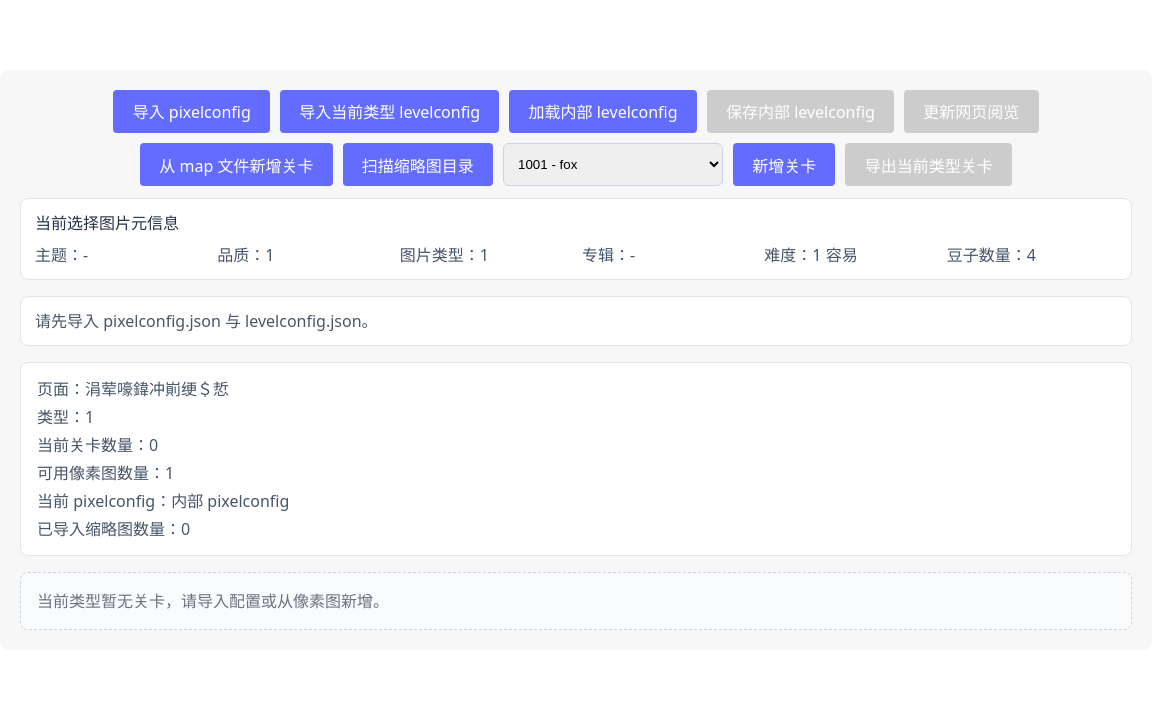
it: LevelConfigPage › closes the reserved preview tab and reports generation failures
Click the button "加载内部 levelconfig" at (603, 111), box left=509, top=90, right=697, bottom=133
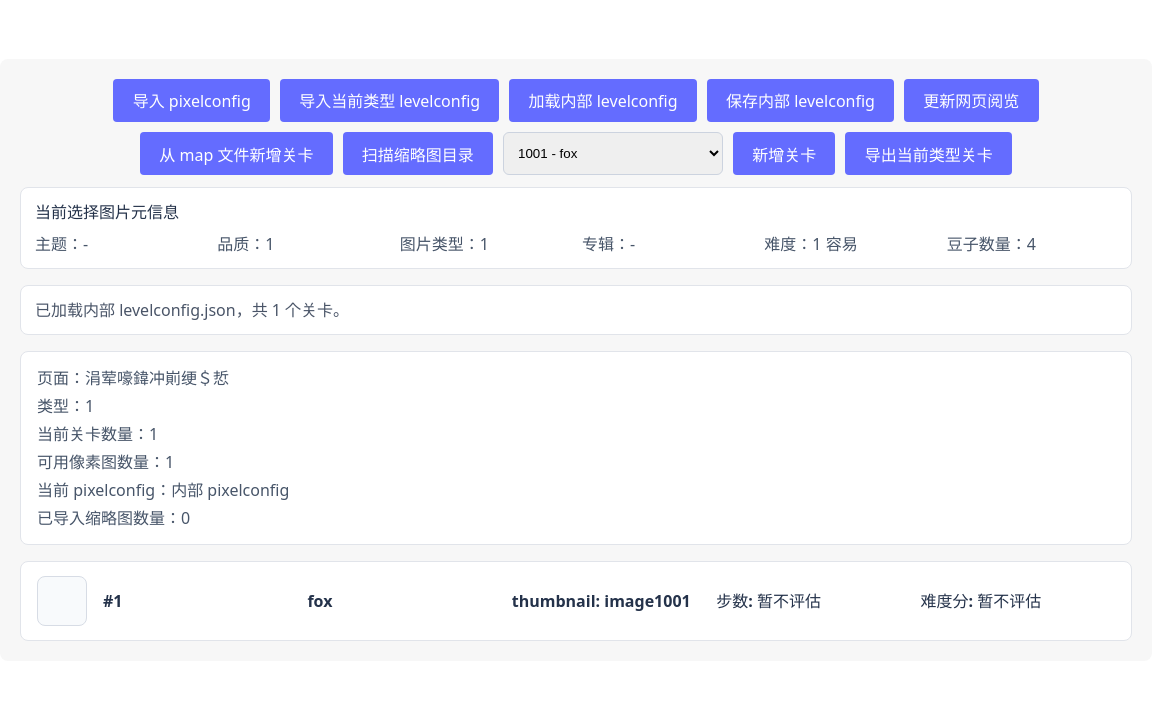
Click the button "更新网页阅览" at (971, 100), box left=904, top=79, right=1039, bottom=122
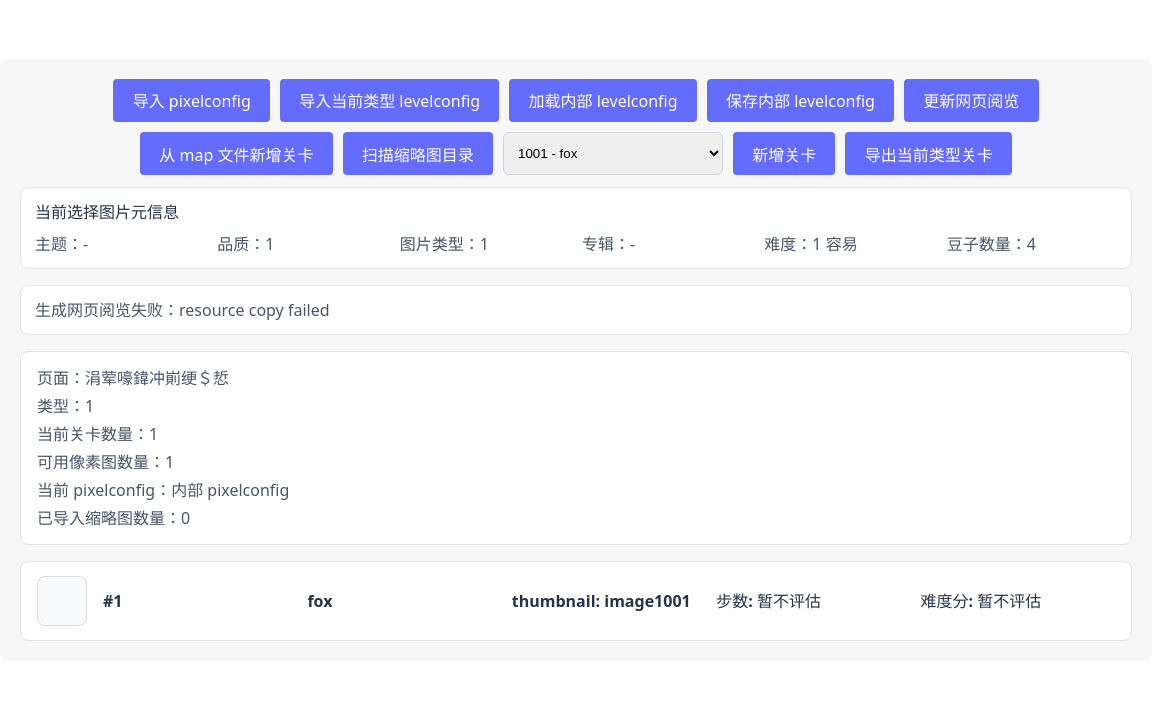
Now the button "更新网页阅览" is enabled, box left=904, top=79, right=1039, bottom=122
Now the text "生成网页阅览失败：resource copy failed" is shown, box left=20, top=285, right=1132, bottom=335
